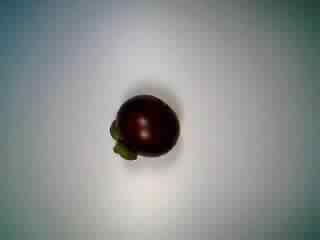mangosteen: (106, 90, 181, 163)
